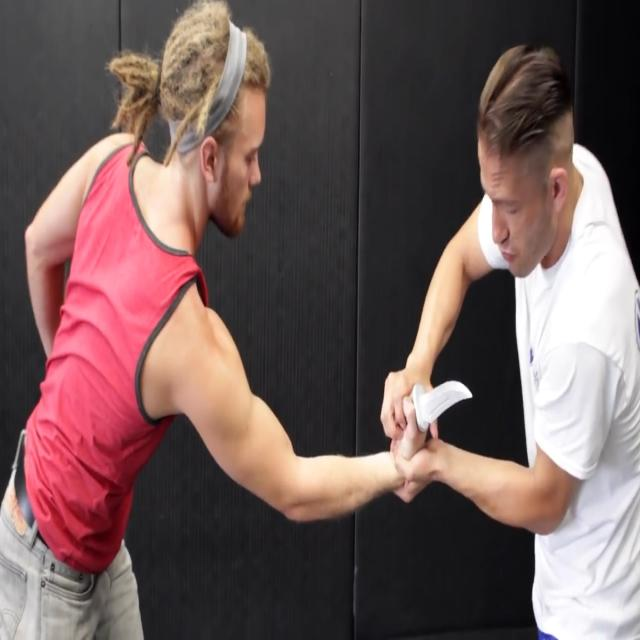knife: (407, 379, 477, 440)
